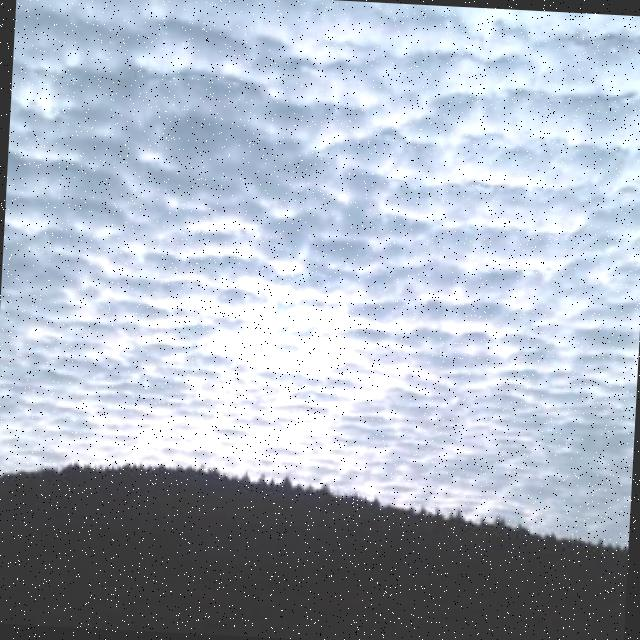Ac: (1, 1, 640, 431)
